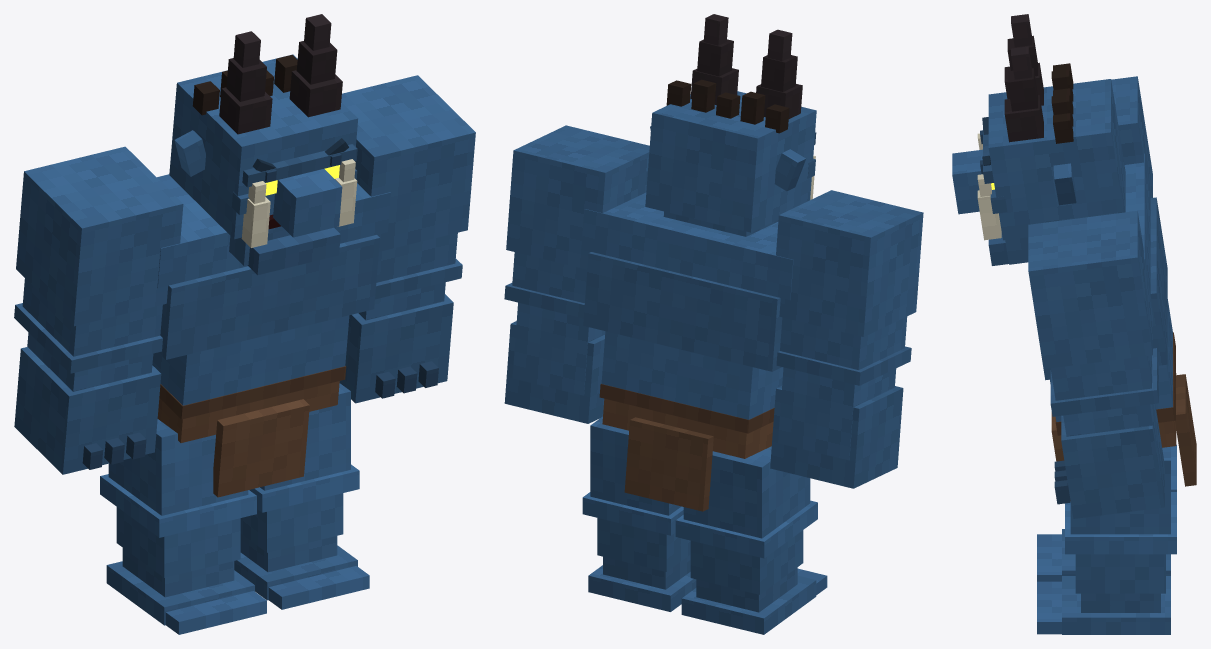
The model's file is ogre_base_v3.glb.
3 views of the same model, side by side, from view 1: azimuth 30°, elevation 25°; view 2: azimuth 150°, elevation 25°; view 3: azimuth 270°, elevation 25° (orthographic). The views are drawn at different scales.
Parts seen in each view (by area): view 1: ArmR, Torso, Head, ArmL, LegR, LegL; view 2: Torso, ArmR, ArmL, Head, LegR, LegL; view 3: ArmL, Head, LegL, Torso, ArmR, LegR.
Part boxes in pixels (bbox=[...]): ArmR: bbox=[14, 146, 183, 474]; Torso: bbox=[152, 174, 390, 497]; Head: bbox=[169, 14, 358, 275]; ArmL: bbox=[339, 75, 475, 403]; LegR: bbox=[100, 419, 266, 634]; LegL: bbox=[234, 383, 369, 609]; Torso: bbox=[581, 192, 793, 511]; ArmR: bbox=[770, 190, 923, 488]; ArmL: bbox=[504, 125, 649, 423]; Head: bbox=[645, 14, 816, 236]; LegR: bbox=[675, 446, 827, 634]; LegL: bbox=[582, 416, 696, 611]; ArmL: bbox=[1028, 211, 1164, 518]; Head: bbox=[952, 14, 1125, 265]; LegL: bbox=[1037, 446, 1176, 634]; Torso: bbox=[1043, 153, 1196, 500]; ArmR: bbox=[1111, 76, 1152, 197]; LegR: bbox=[1037, 444, 1176, 581].
Bounding box in the file's own units: 1.46 × 2.09 × 0.8306.
25 materials, 25 textured.
